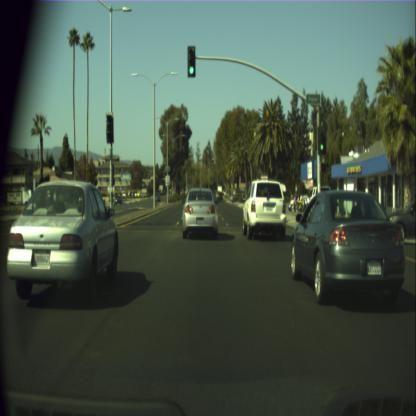Green: (187, 46, 195, 76), (318, 126, 326, 155)
off: (106, 115, 114, 142)
